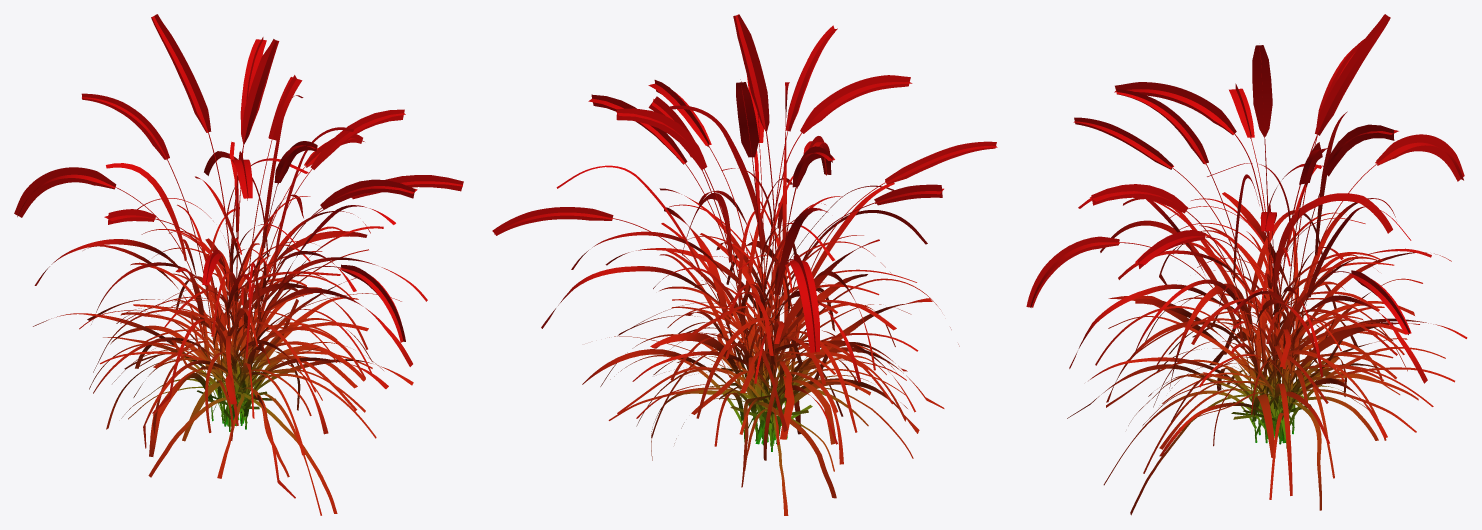
File: slglZ_Var1_LOD0.fbx
3 renders of one model, left to right at view 1: azimuth 30°, elevation 25°; view 2: azimuth 150°, elevation 25°; view 3: azimuth 270°, elevation 25°, orthographic. The views are drawn at different scales.
Visible parts, largest first — view 1: _0408_Var1_LOD0; view 2: _0408_Var1_LOD0; view 3: _0408_Var1_LOD0.
Boxes of the visible parts, x1,y1,x2,y2 form: _0408_Var1_LOD0: (14, 14, 463, 515); _0408_Var1_LOD0: (492, 14, 997, 515); _0408_Var1_LOD0: (1026, 14, 1467, 515).
Bounding box in the file's own units: 54.58 × 66.53 × 56.57.
